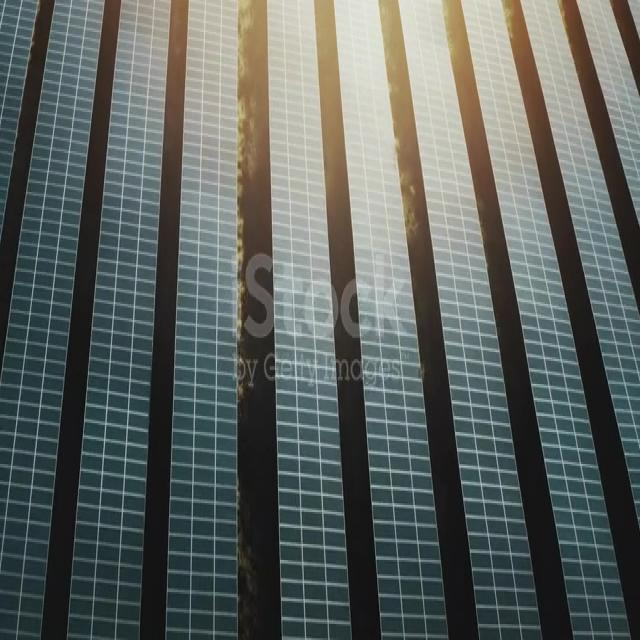Solar-panels: (463, 1, 632, 640), (397, 3, 543, 640), (336, 1, 448, 640), (69, 1, 174, 640), (1, 3, 106, 639), (521, 2, 640, 530), (268, 3, 353, 640), (166, 1, 238, 640), (578, 1, 640, 229), (1, 2, 40, 239)
